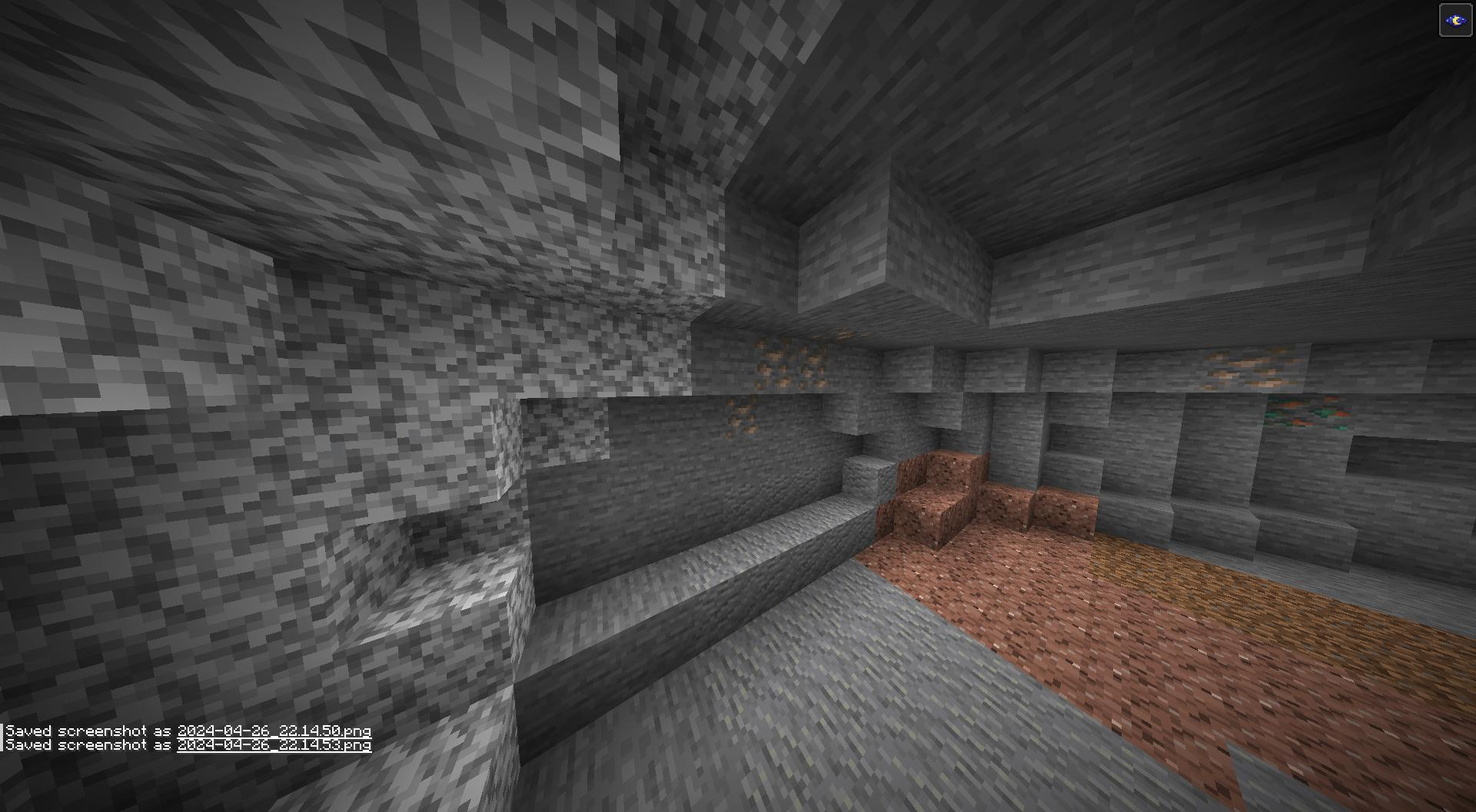iron ore: (1205, 338, 1305, 403), (746, 327, 796, 393), (795, 338, 829, 396), (723, 393, 762, 441)
